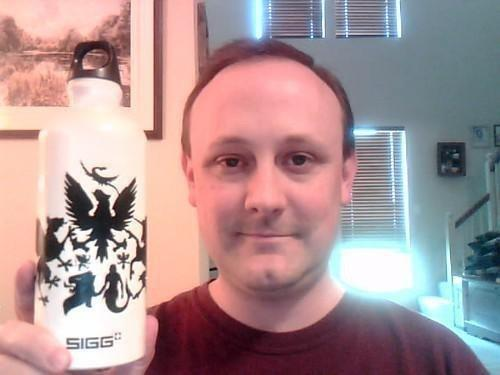gym bottle: (35, 38, 149, 371)
